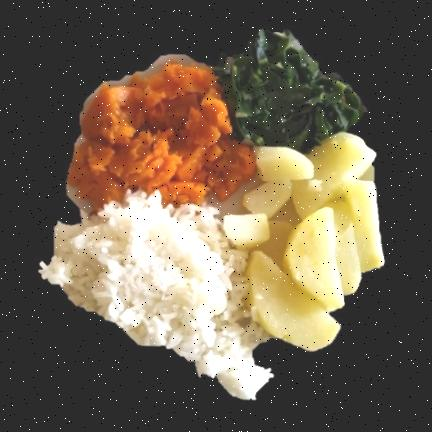potato: (209, 133, 383, 350)
rice: (40, 194, 273, 399)
salad: (215, 29, 364, 153)
